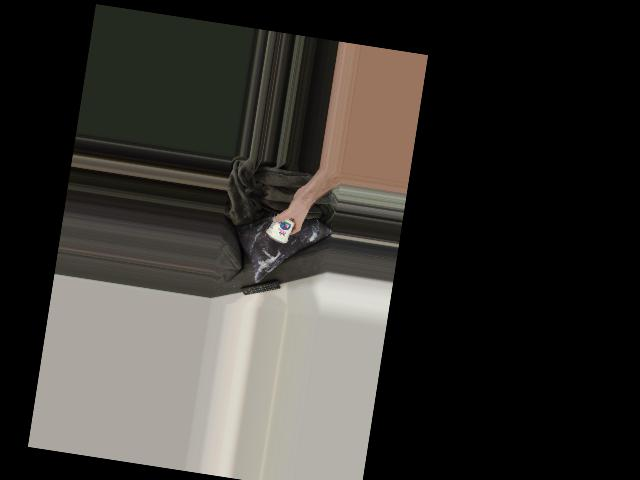cotage: (263, 209, 299, 248)
